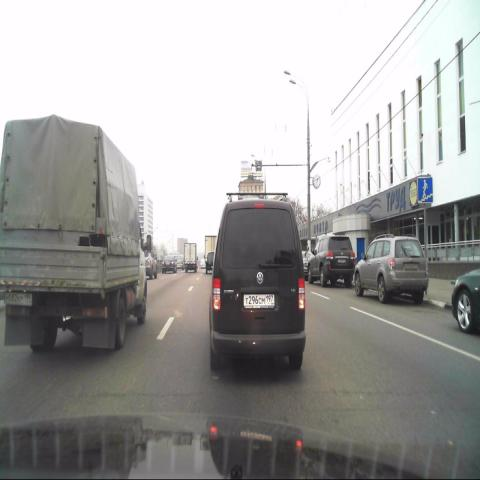6_6: (417, 177, 433, 203)
